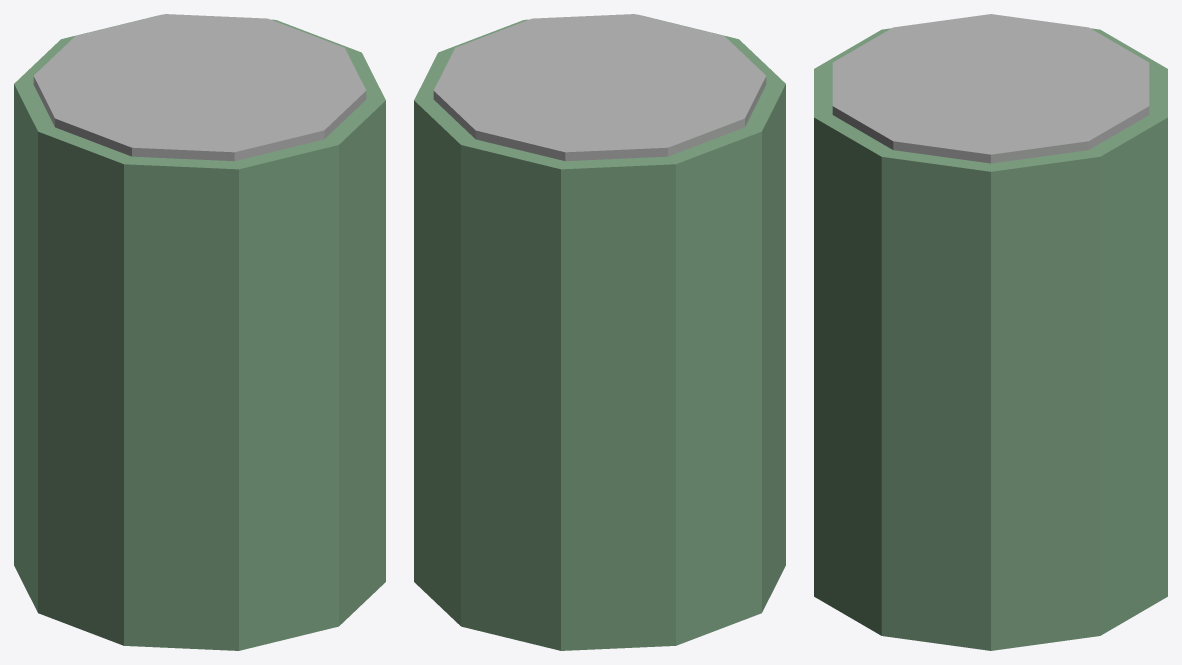
The model's file is cans.glb.
3 renders of one model, left to right at view 1: azimuth 30°, elevation 25°; view 2: azimuth 150°, elevation 25°; view 3: azimuth 270°, elevation 25°, orthographic.
Parts seen in each view (by area): view 1: NC_cans; view 2: NC_cans; view 3: NC_cans.
Boxes of the visible parts, x1,y1,x2,y2 form: NC_cans: [14, 14, 385, 650]; NC_cans: [414, 14, 785, 650]; NC_cans: [814, 14, 1167, 650].
Size of the model in its own units: 0.076 by 0.11 by 0.0723.
